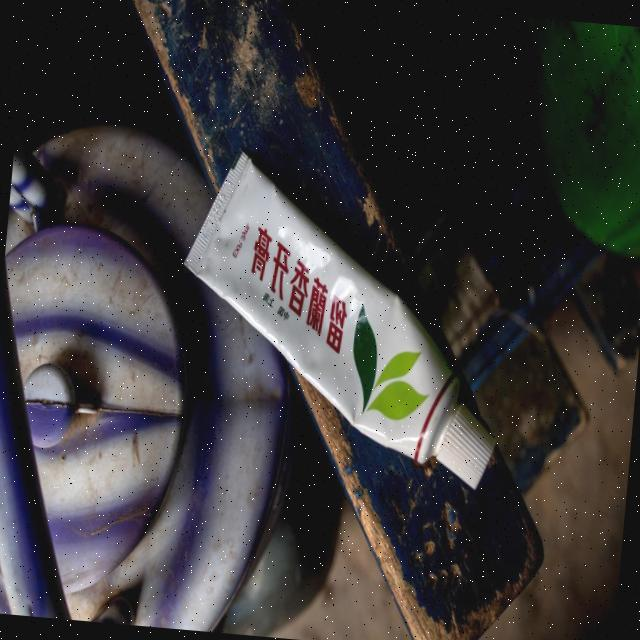Toothpaste: (151, 140, 527, 494)
